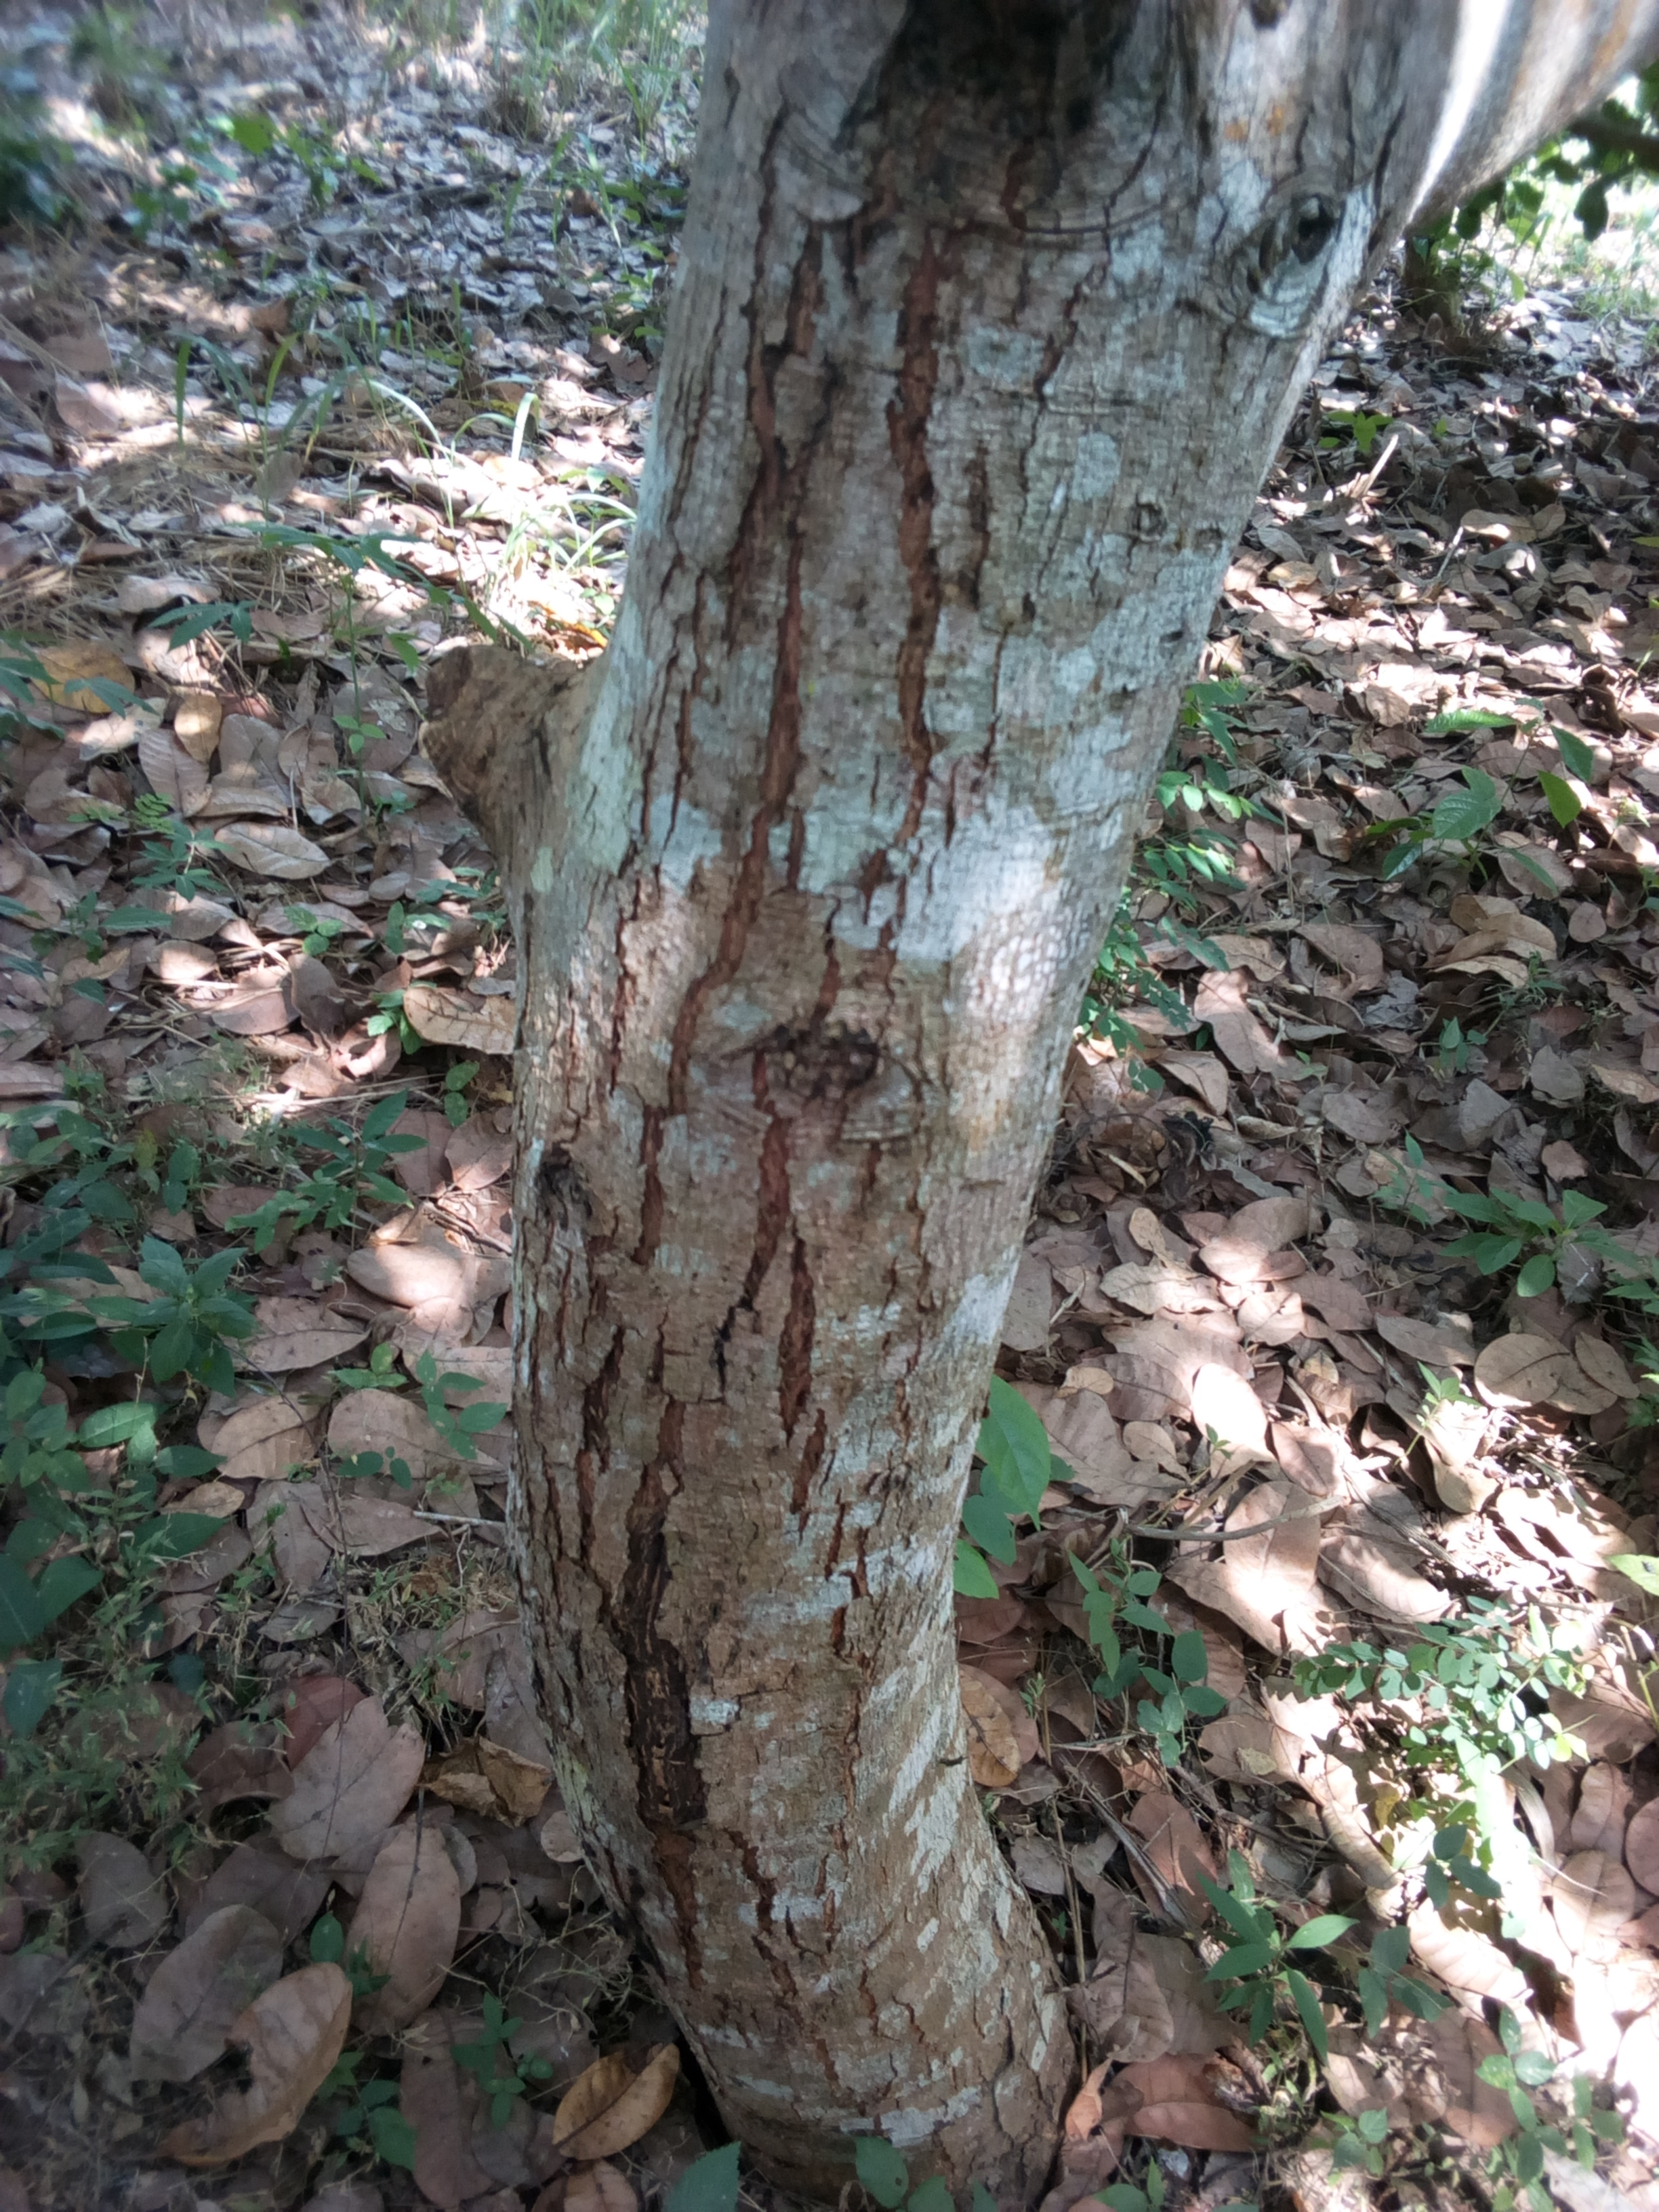Termites: (603, 286, 1023, 2088)
